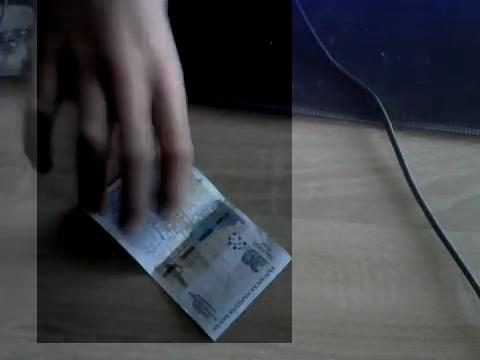20leva: (37, 0, 292, 343)
